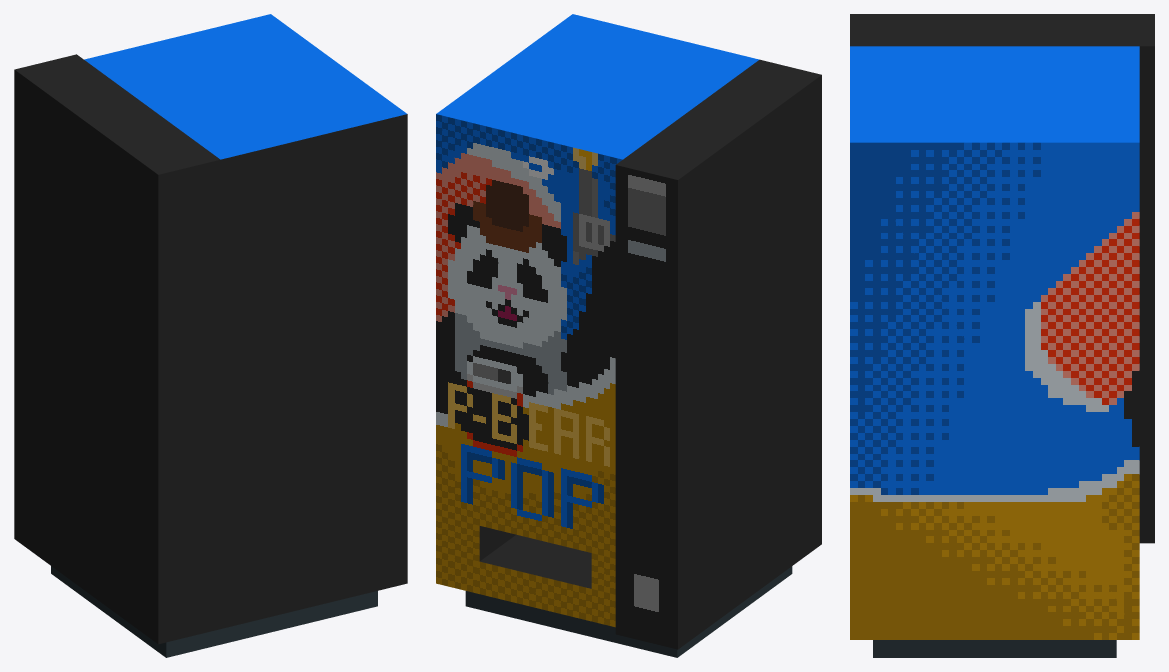
Rendered from VendingMachine.glb.
The picture shows the model from 3 angles, left to right: view 1: azimuth 30°, elevation 25°; view 2: azimuth 150°, elevation 25°; view 3: azimuth 270°, elevation 25°; orthographic projection. The views are drawn at different scales.
Parts seen in each view (by area): view 1: cuboid (×2); view 2: cuboid (×2); view 3: cuboid (×2).
Part boxes in pixels (<box>): cuboid (×2): <box>14,14,407,657</box>; cuboid (×2): <box>436,14,821,657</box>; cuboid (×2): <box>850,14,1154,657</box>.
Size of the model in its own units: 2.5 by 4.75 by 2.5.
1 material, 1 textured.
